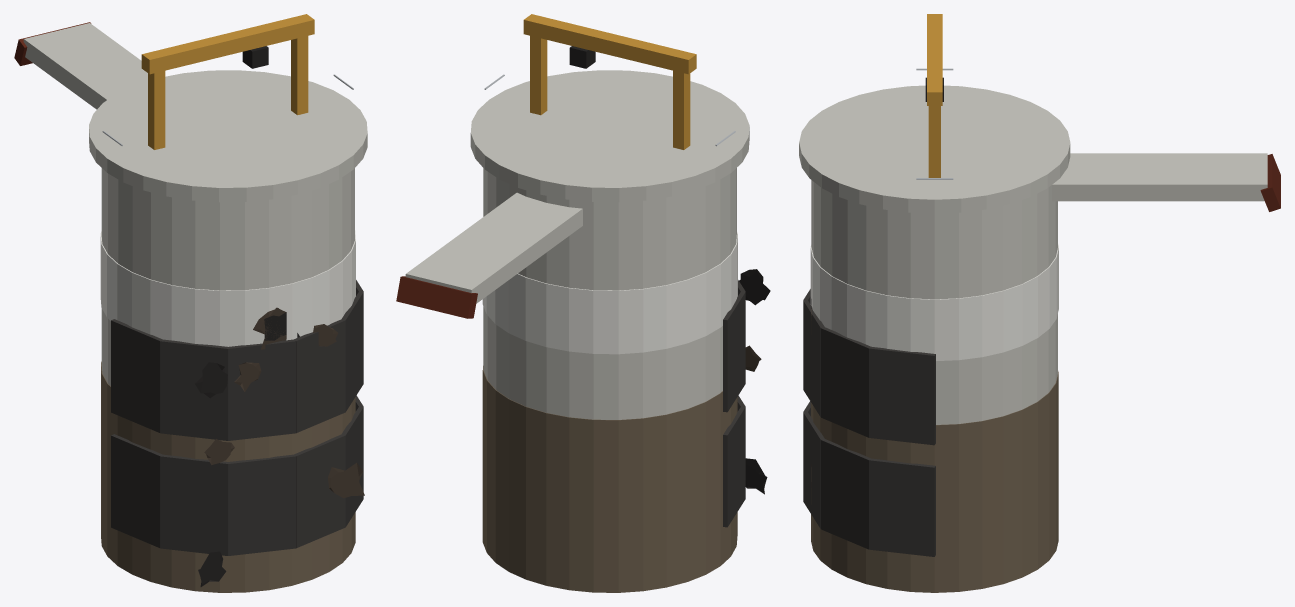
Rendered from shore_intake.glb.
3 renders of one model, left to right at view 1: azimuth 30°, elevation 25°; view 2: azimuth 150°, elevation 25°; view 3: azimuth 270°, elevation 25°, orthographic. The views are drawn at different scales.
Visible parts, largest first — view 1: shore_intake; view 2: shore_intake; view 3: shore_intake.
Boxes of the visible parts, x1,y1,x2,y2 form: shore_intake: (14,14,367,592); shore_intake: (396,14,770,592); shore_intake: (799,14,1280,592).
Bounding box in the file's own units: 8.8 × 17.45 × 15.62.
